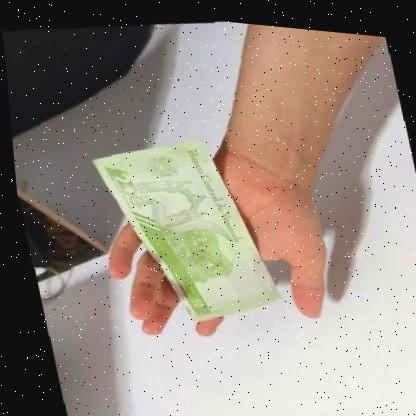vef_back: (82, 119, 283, 334)
